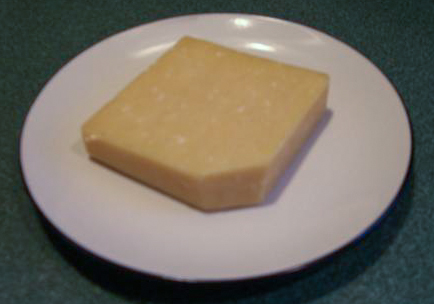cheese: (95, 26, 331, 214)
